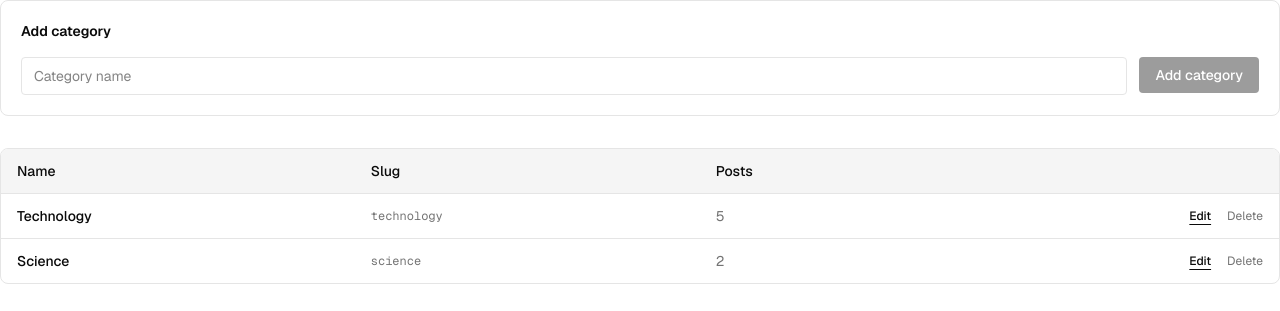
Test: CategoryManager › clicking Cancel during inline edit closes the edit form
Click the 1st button "Edit": (1200, 216) left=1189, top=208, right=1211, bottom=224
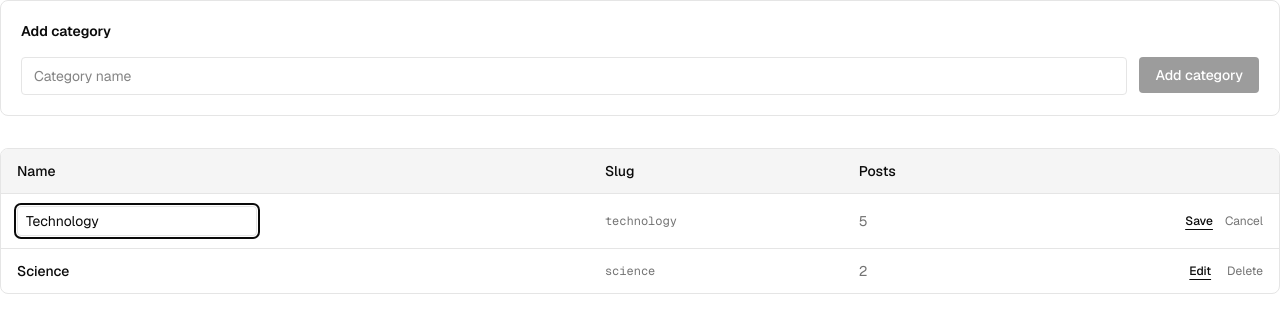
Expected: the field showing "Technology" is shown, left=17, top=206, right=257, bottom=236
Click the button "Cancel": (1244, 221) left=1225, top=213, right=1263, bottom=229
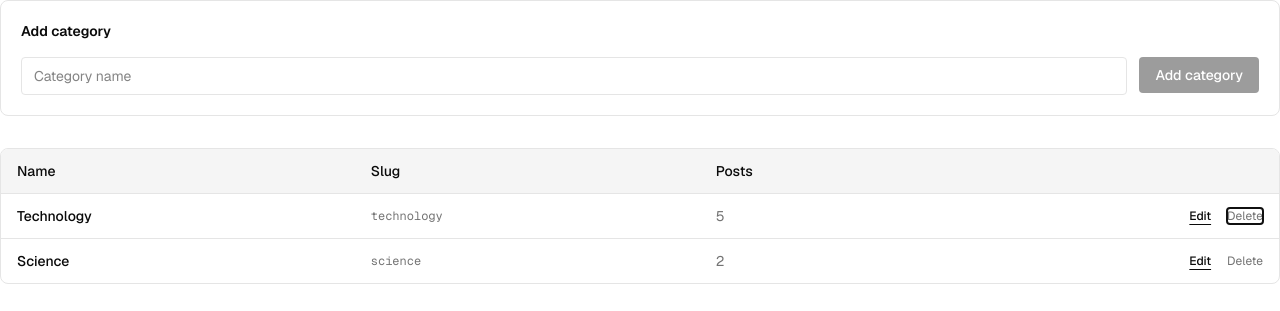
Expected: the text "Technology" is shown, left=17, top=207, right=92, bottom=225
